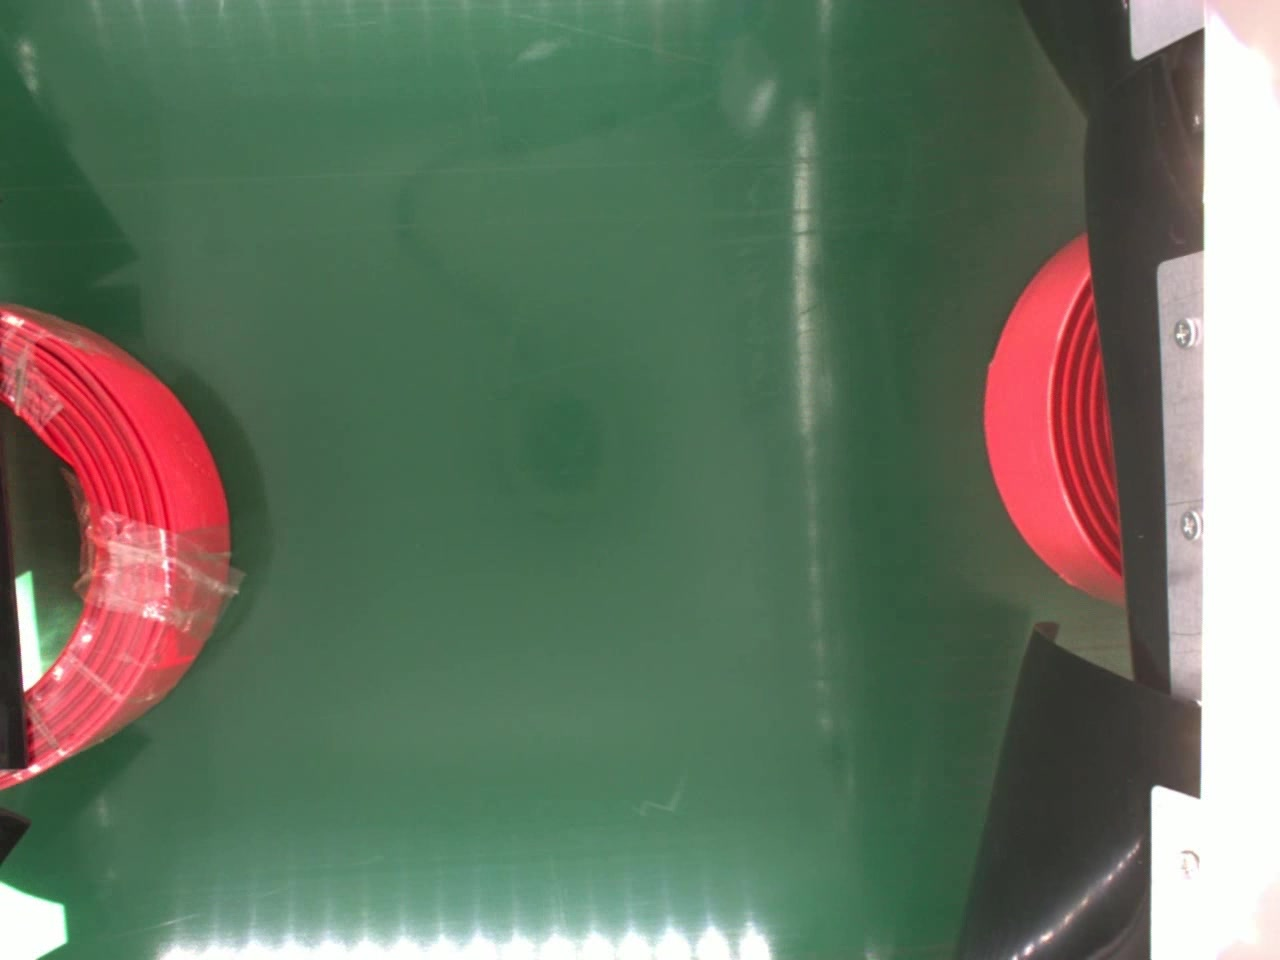red: (0, 296, 235, 782), (985, 229, 1124, 603)
